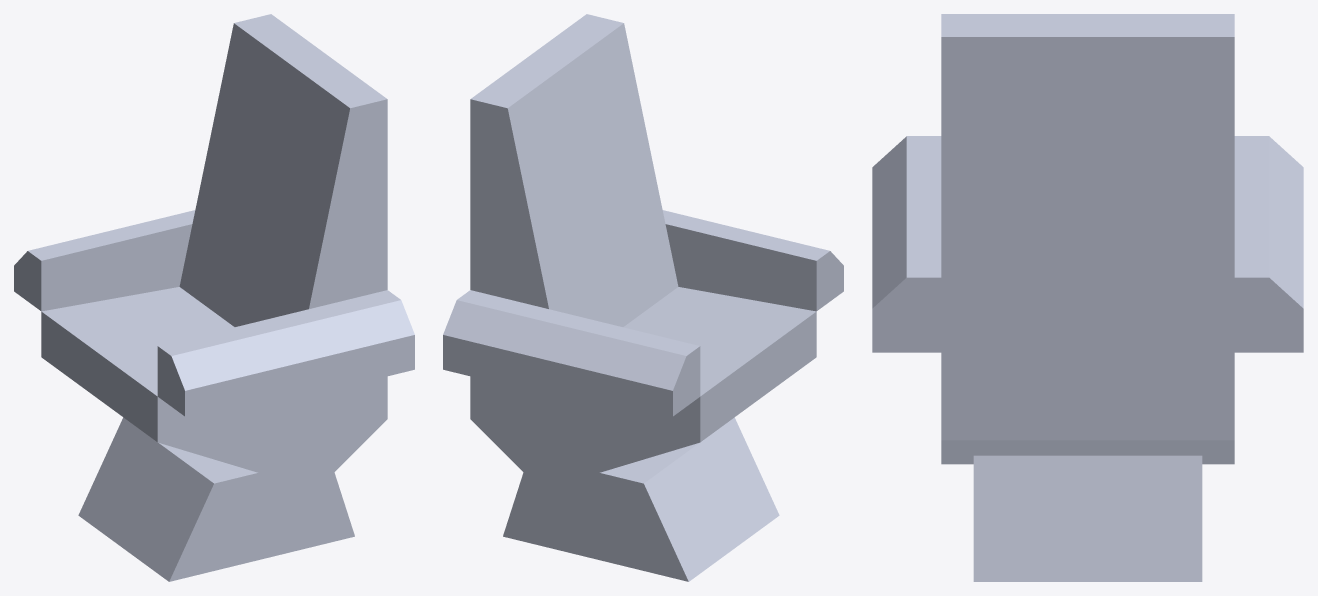
3 renders of one model, left to right at view 1: azimuth 30°, elevation 25°; view 2: azimuth 150°, elevation 25°; view 3: azimuth 270°, elevation 25°, orthographic. The views are drawn at different scales.
Visible parts, largest first — view 1: object_056; view 2: object_056; view 3: object_056.
Boxes of the visible parts, x1,y1,x2,y2 form: object_056: [14, 14, 414, 581]; object_056: [443, 14, 843, 581]; object_056: [872, 14, 1303, 581].
Bounding box in the file's own units: 2.91 × 5.35 × 3.75.
